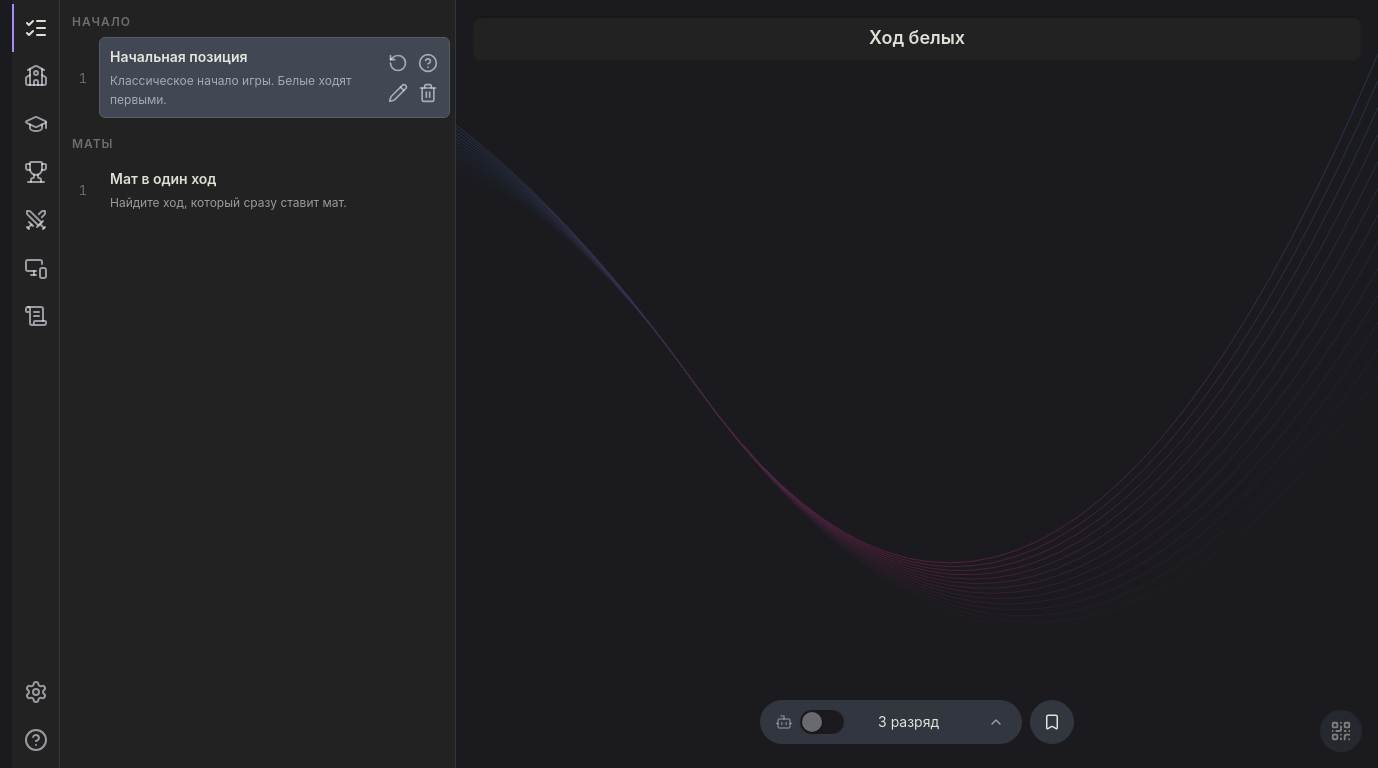
App › switches the left panel to the tournaments tab
Expected: the button "Мат в один ход Найдите ход, который сразу ставит мат." is shown, [99,159,450,221]
Click the button named "Турниры" at coordinates (36, 172), box [12,148,60,196]
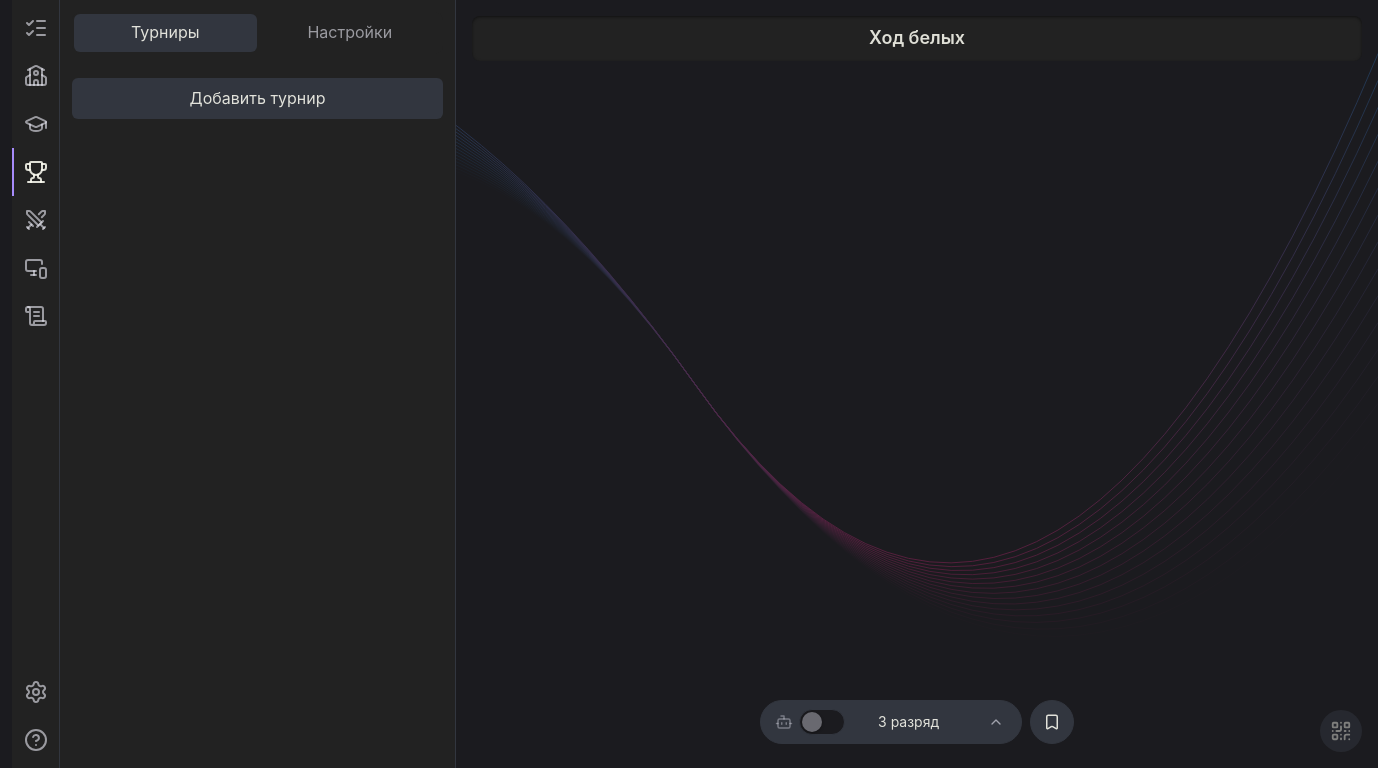
Now the button "Мат в один ход" is gone
Now the element with class "tournaments-panel" is shown, box [60,0,455,131]
